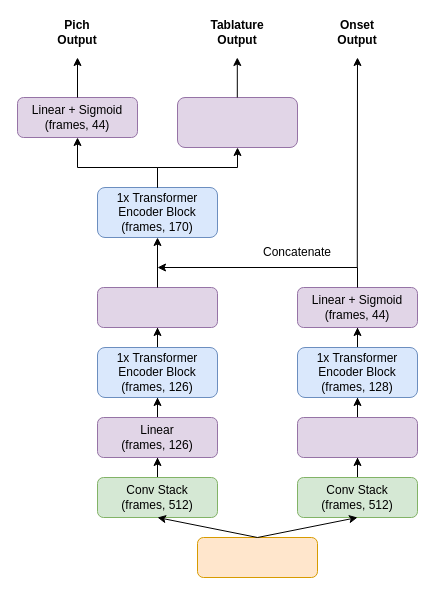
Some shapes in this 435 by 595 pixel diagram are drawn without their labels. Here are the shapes that lost their labels. From the top down, the centre of each, then its label:
(237,122): Linear + Reshape + Softmax (frames, 6, 21)
(157,307): Sigmoid (frames, 126)
(357,437): Linear (frames, 128)
(257,557): CQT Spectrogram (frames, 192)
